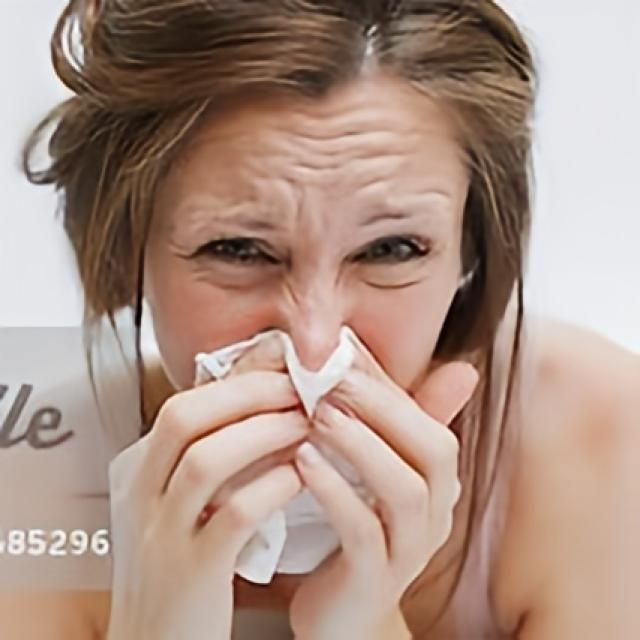disgust: (142, 70, 466, 464)
